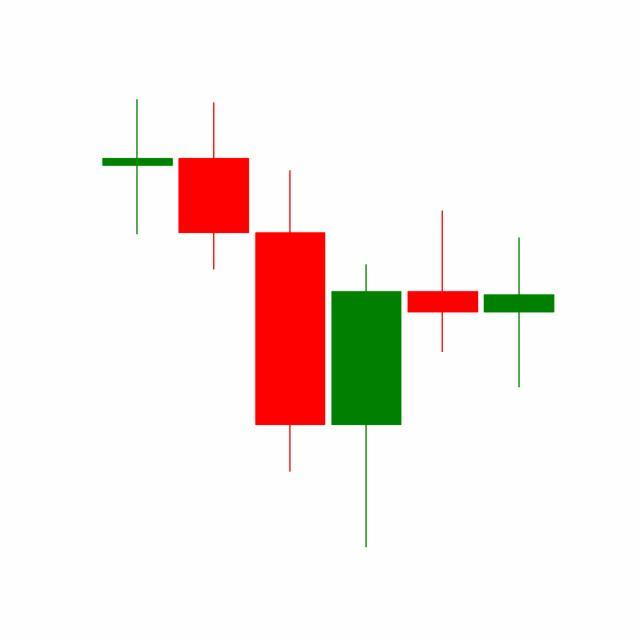Spinning Top: (404, 209, 482, 355)
